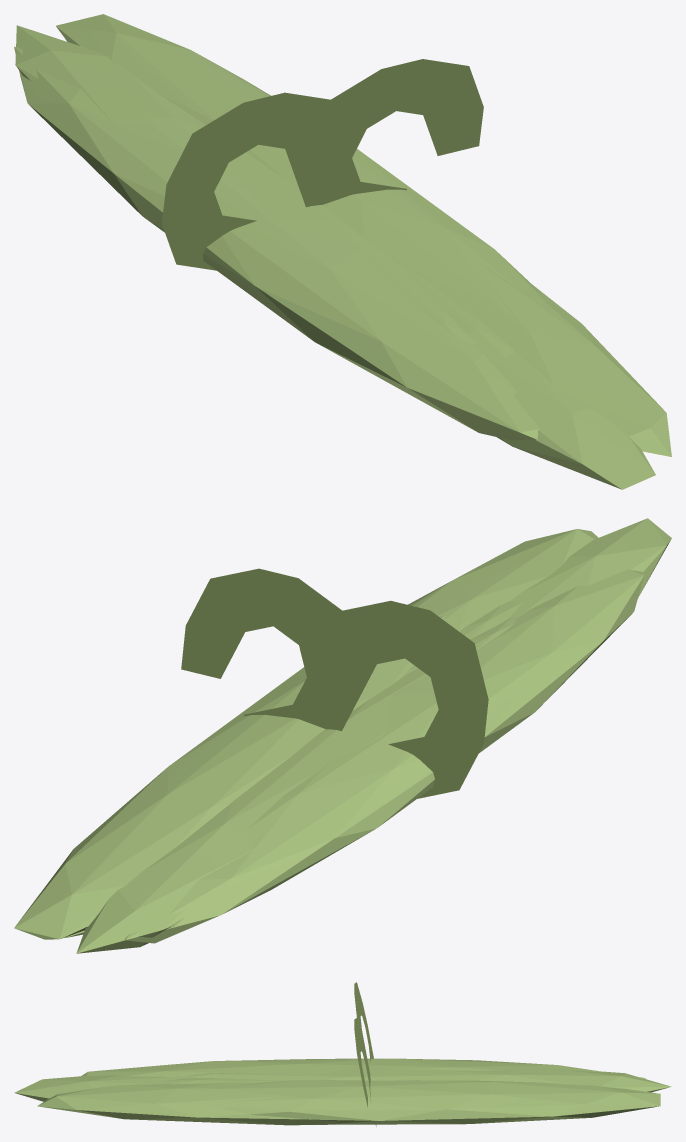
Rendered from pyrrosia-lanceolata.glb.
3 views of the same model, one above another, from view 1: azimuth 30°, elevation 25°; view 2: azimuth 150°, elevation 25°; view 3: azimuth 270°, elevation 25° (orthographic). The views are drawn at different scales.
Visible parts, largest first — view 1: frond3, frond0, frond4, fiddle-1, frond1, fiddle1, frond2, frond5; view 2: frond3, frond0, frond4, fiddle1, fiddle-1, frond1, frond2, frond5; view 3: frond0, frond1, frond3, frond4, frond2, fiddle-1, frond5, fiddle1.
Part boxes in pixels (box(x1,y1,x2,y2)): frond3: box(14, 46, 539, 440); frond0: box(56, 14, 547, 313); frond4: box(15, 25, 475, 343); fiddle-1: box(161, 92, 342, 270); frond1: box(426, 255, 671, 456); fiddle1: box(299, 59, 483, 207); frond2: box(471, 341, 655, 489); frond5: box(403, 268, 514, 356); frond3: box(125, 569, 644, 943); frond0: box(14, 615, 445, 939); frond4: box(76, 617, 516, 953); fiddle1: box(181, 568, 356, 731); fiddle-1: box(343, 600, 488, 798); frond1: box(408, 529, 598, 631); frond2: box(509, 518, 671, 618); frond5: box(407, 601, 522, 672); frond0: box(205, 1080, 660, 1124); frond1: box(37, 1082, 339, 1125); frond3: box(81, 1058, 645, 1078); frond4: box(185, 1065, 671, 1092); frond2: box(14, 1075, 187, 1101); fiddle-1: box(354, 982, 373, 1071); frond5: box(163, 1077, 280, 1084); fiddle1: box(354, 1018, 376, 1126).
Size of the model in its own units: 0.184 by 0.1057 by 0.6216.
